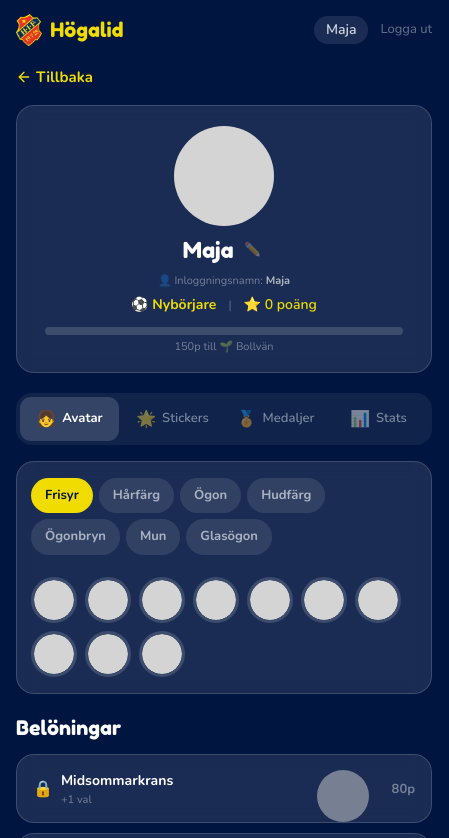
ProfilePage › switches to the Stats tab
The width and height of the screenshot is (449, 838).
Click the button "📊 Stats".
click(378, 418)  # box [329, 396, 428, 440]
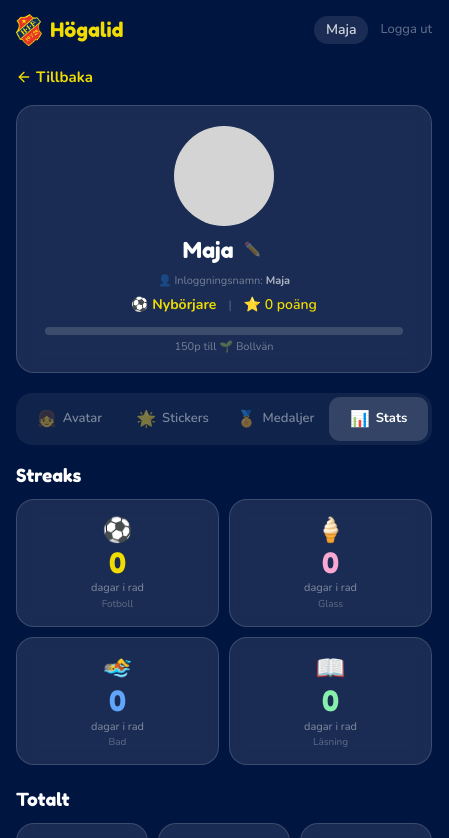
Now the text "Streaks" is shown, box [16, 464, 81, 486]
Now the text "Totalt" is shown, box [16, 788, 70, 810]
